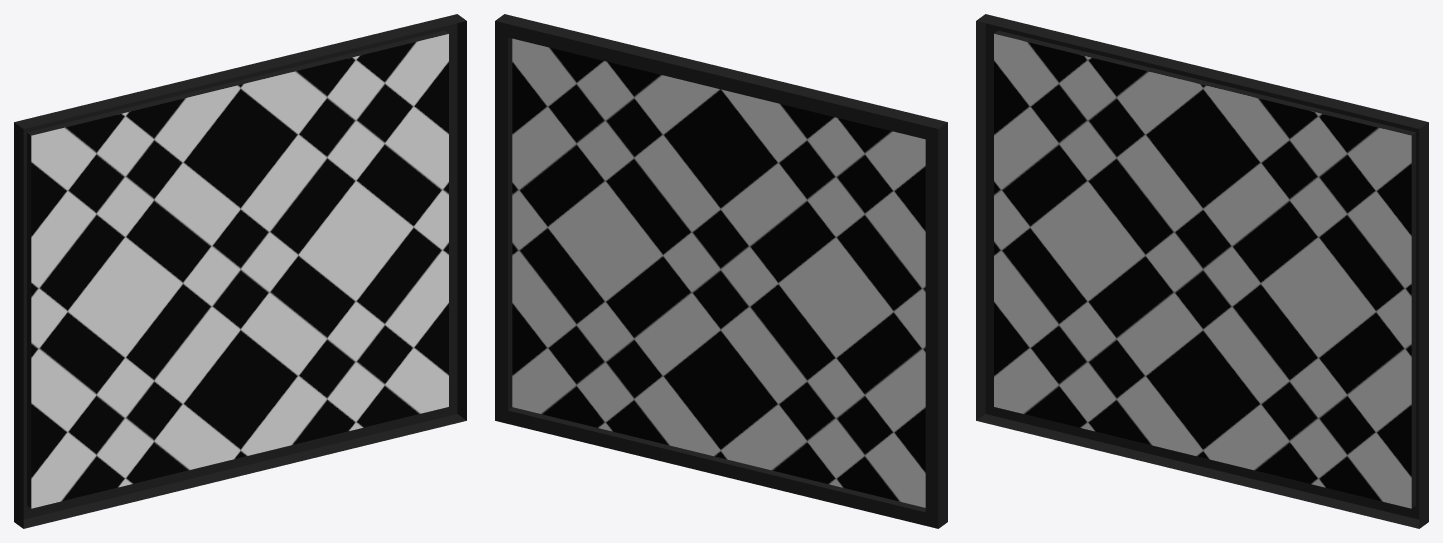
The model's file is M_lukisan 2.fbx.
The picture shows the model from 3 angles, left to right: view 1: azimuth 30°, elevation 25°; view 2: azimuth 150°, elevation 25°; view 3: azimuth 330°, elevation 25°; orthographic projection.
Visible parts, largest first — view 1: Cube; view 2: Cube; view 3: Cube.
Part boxes in pixels (<box>): Cube: <box>14,14,466,528</box>; Cube: <box>495,14,947,528</box>; Cube: <box>976,14,1428,528</box>.
Bounding box in the file's own units: 193 × 166 × 7.08.
